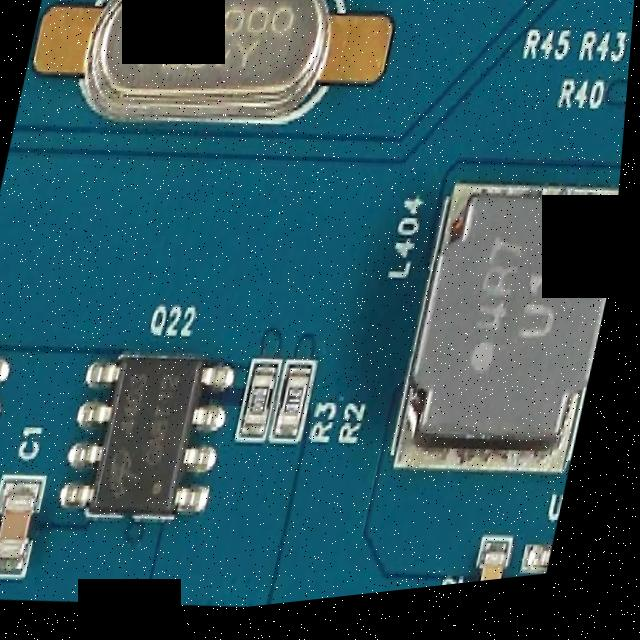IC: (68, 334, 239, 538)
capacitor 1V5: (0, 481, 48, 568), (485, 554, 519, 594)
clock Q1: (61, 0, 354, 146)
inductor F1: (400, 177, 625, 508)
resistor IR1: (281, 374, 316, 446), (250, 374, 280, 437)
